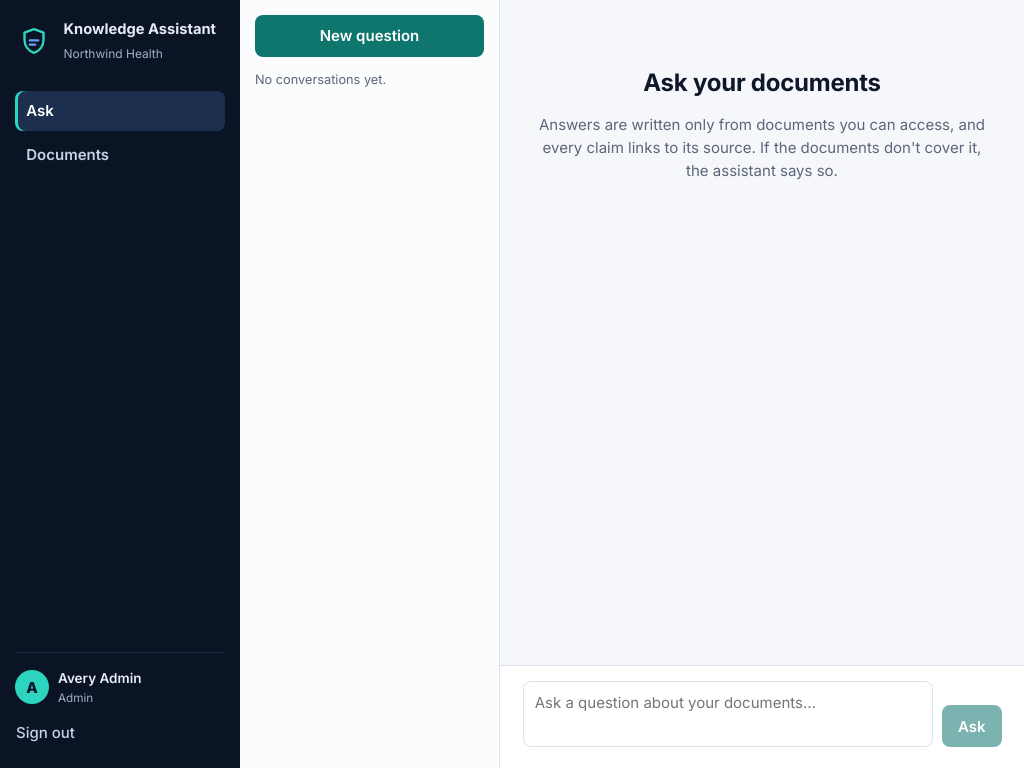
it: login › signs out and forgets the refresh token
Click the button "Sign out".
click(120, 733)  # box [15,716,225,750]
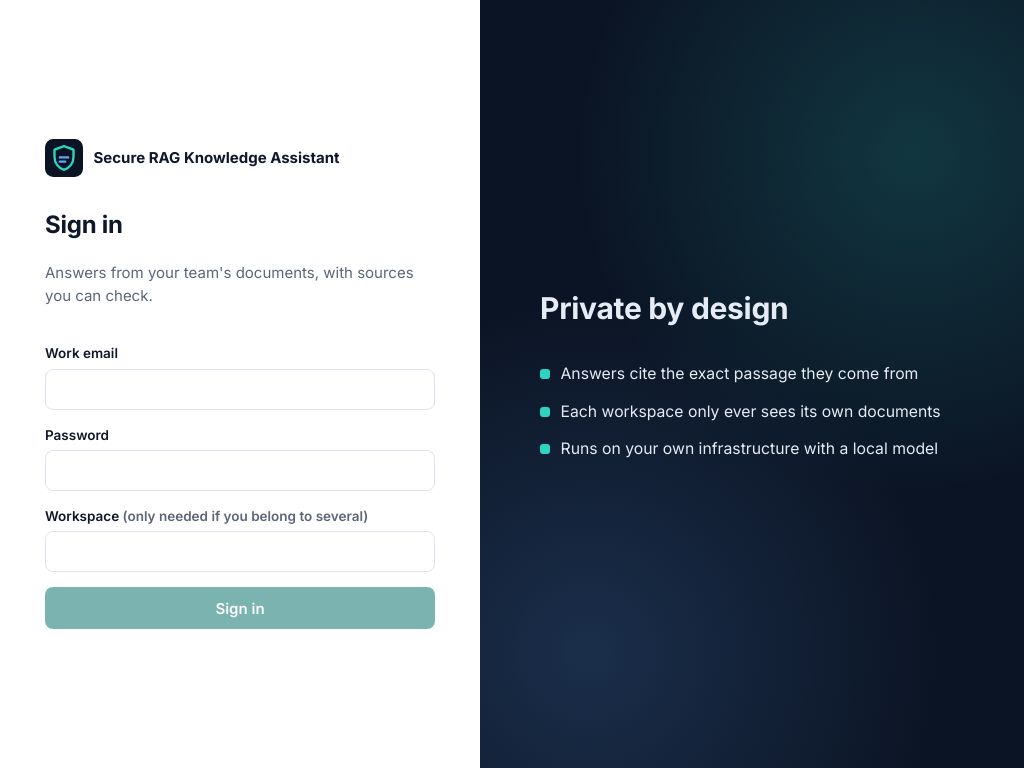
Now the heading "Sign in" is shown, box [45,210,123,239]
